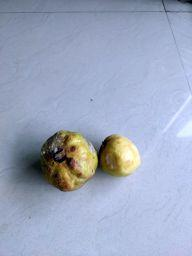guava: (37, 129, 100, 193), (100, 135, 144, 176)
